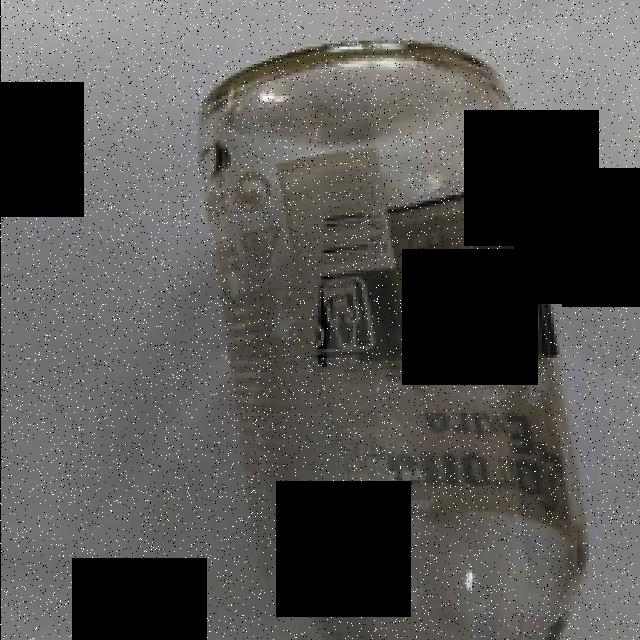glass-bottle: (187, 33, 606, 640)
